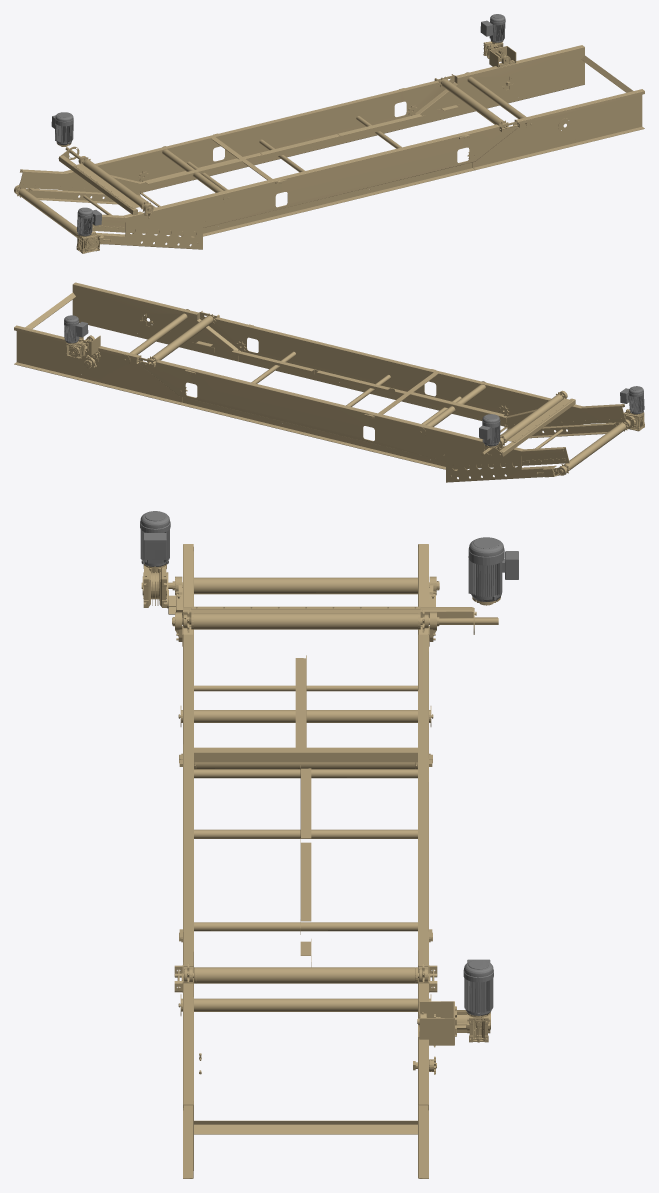
File: opt1.FBX
3 views of the same model, one above another, from view 1: azimuth 30°, elevation 25°; view 2: azimuth 150°, elevation 25°; view 3: azimuth 270°, elevation 25° (orthographic). The views are drawn at different scales.
Visible parts, largest first — view 1: 實體1; view 2: 實體1; view 3: 實體1.
Boxes of the visible parts, left/top/right/bottom form: 實體1: left=14, top=14, right=644, bottom=253; 實體1: left=14, top=282, right=644, bottom=482; 實體1: left=140, top=511, right=518, bottom=1178.
Size of the model in its own units: 187 by 28.94 by 54.59.
